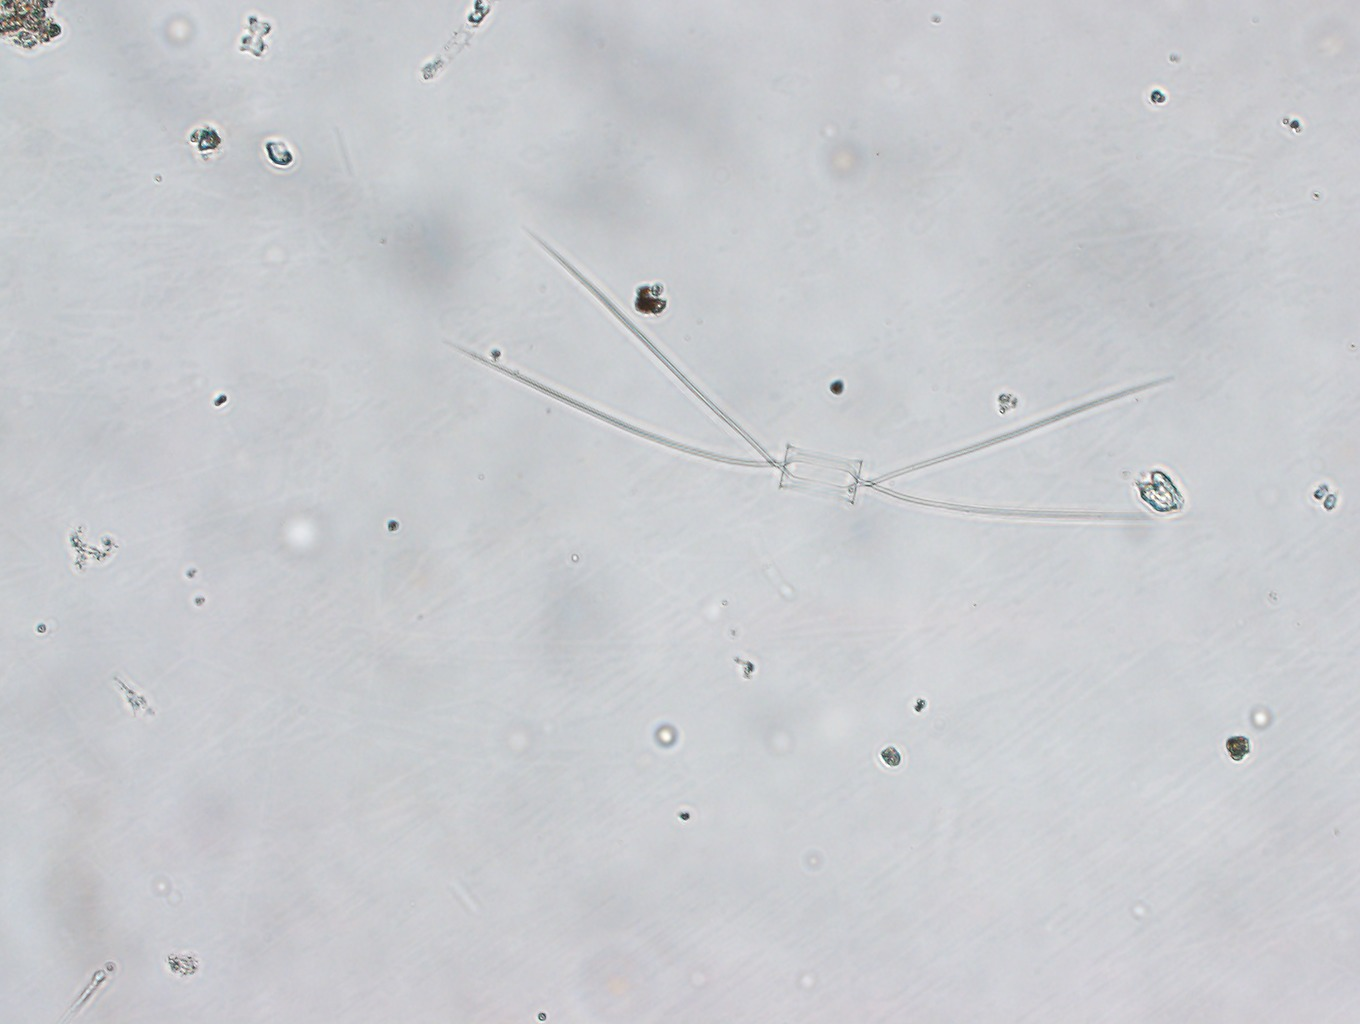chaetoceros: (433, 211, 1173, 535)
